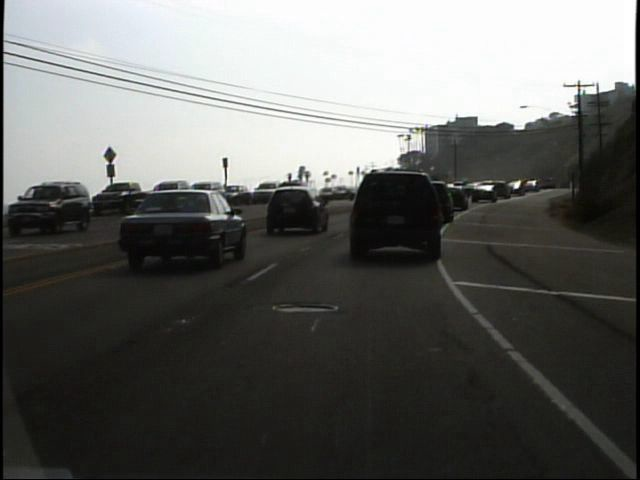person: (69, 179, 89, 219)
